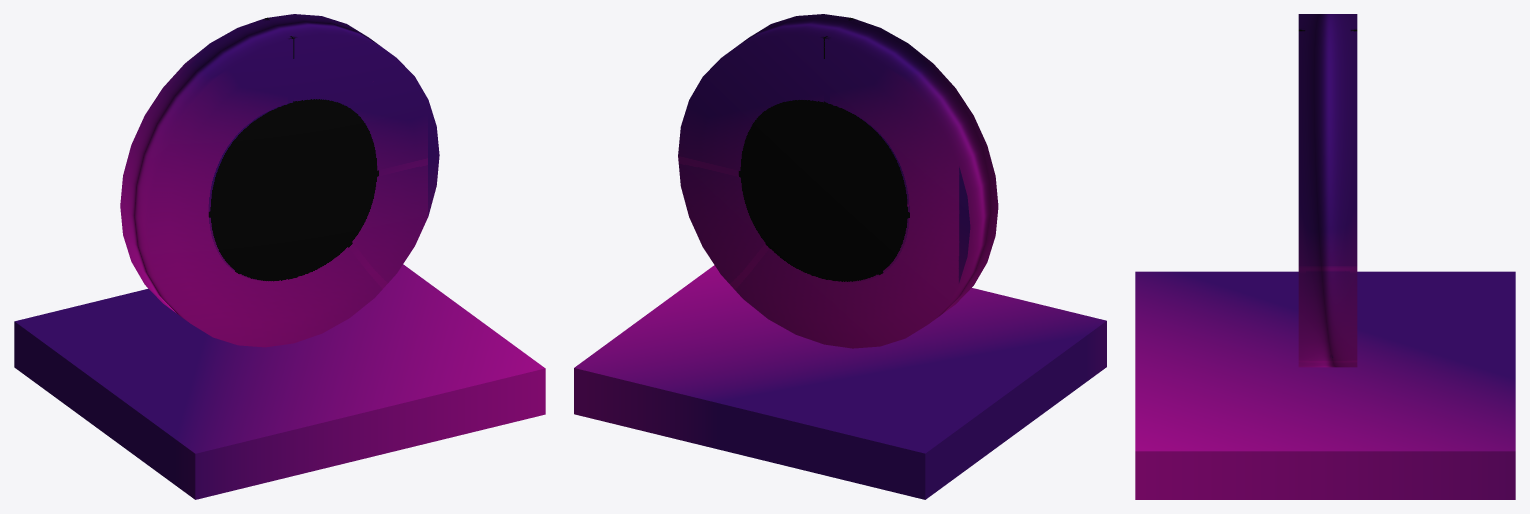
Rendered from 2_DONUT_CHART.glb.
The picture shows the model from 3 angles, left to right: view 1: azimuth 30°, elevation 25°; view 2: azimuth 150°, elevation 25°; view 3: azimuth 270°, elevation 25°; orthographic projection. The views are drawn at different scales.
Visible parts, largest first — view 1: Cilindro.003, Cubo.001; view 2: Cilindro.003, Cubo.001; view 3: Cubo.001, Cilindro.003.
Part boxes in pixels (box(x1,y1,x2,y2)): Cilindro.003: box(120, 14, 439, 347); Cubo.001: box(14, 264, 545, 499); Cilindro.003: box(678, 14, 998, 348); Cubo.001: box(574, 265, 1106, 499); Cubo.001: box(1135, 271, 1515, 499); Cilindro.003: box(1298, 14, 1357, 367).
Bounding box in the file's own units: 1.79 × 1.77 × 1.6.
2 materials, 2 textured.
